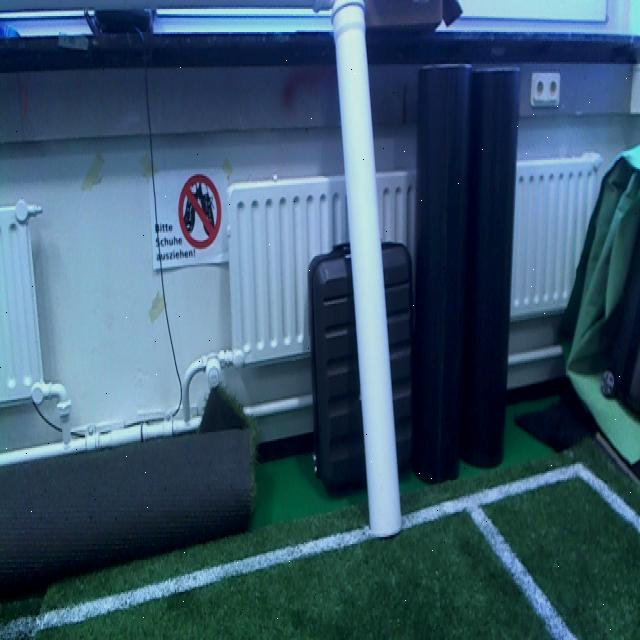goalpost: (333, 2, 410, 533)
